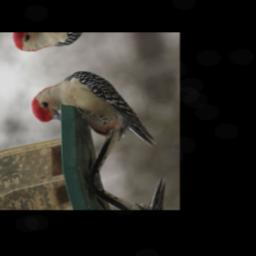Woodpecker: (27, 52, 162, 184)
